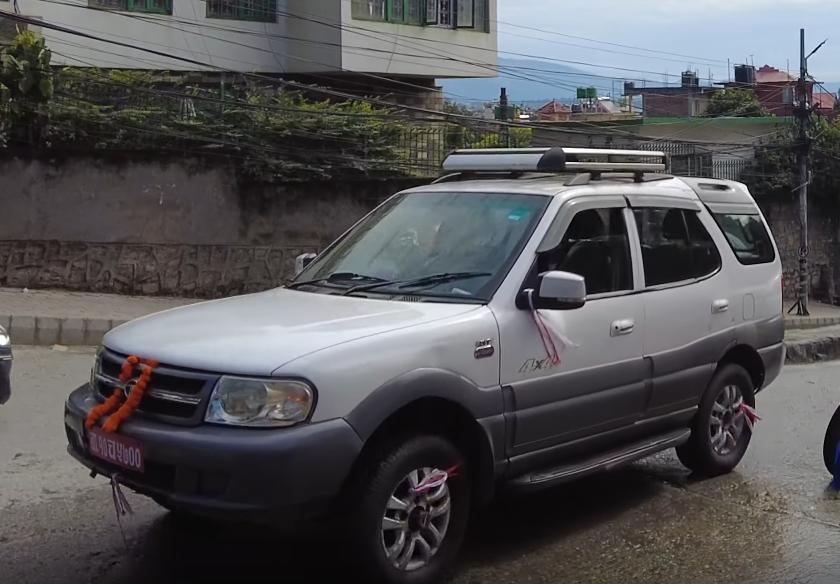SUV: (57, 134, 786, 584)
